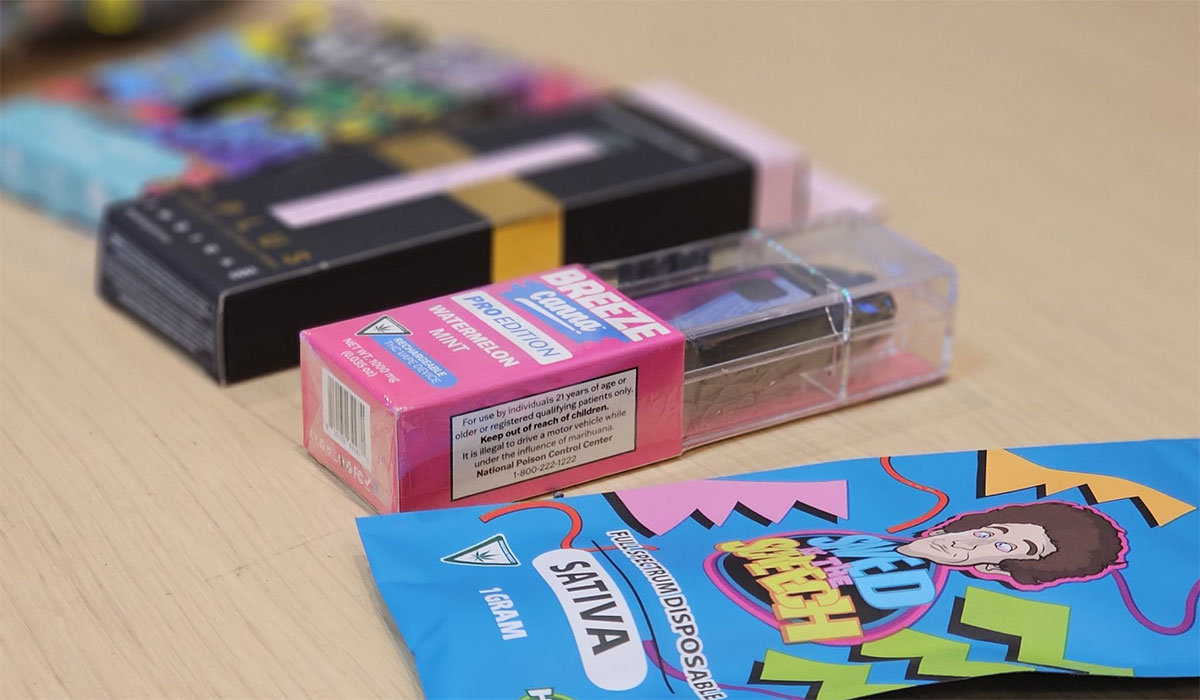weed_pen: (242, 232, 1032, 483)
